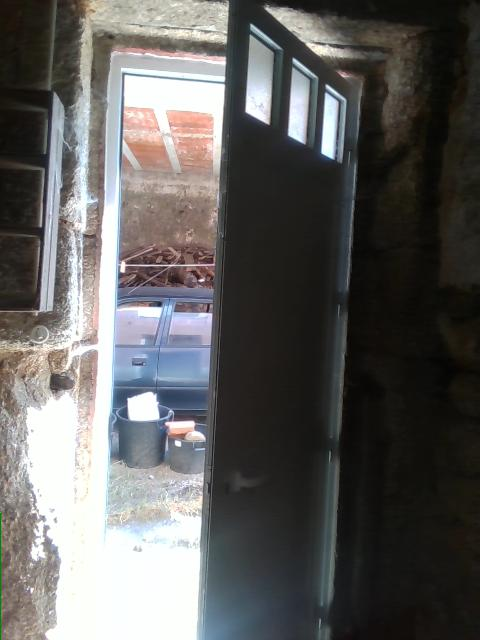semi_door: (91, 3, 389, 639)
